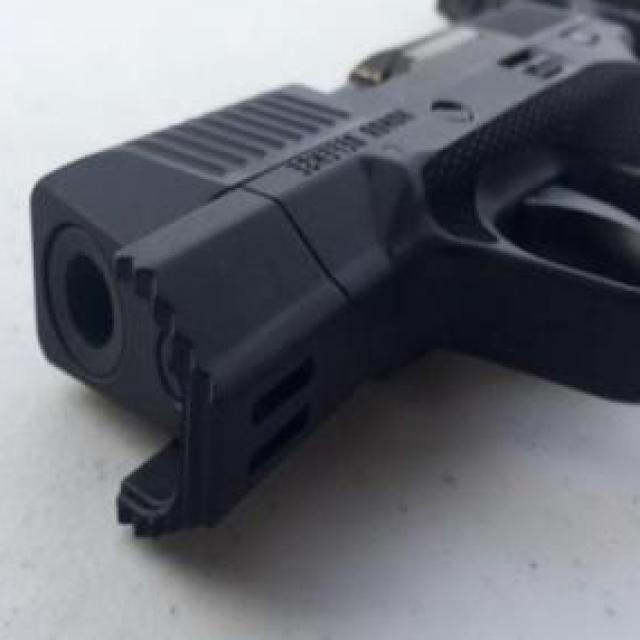pistol: (36, 0, 640, 562)
